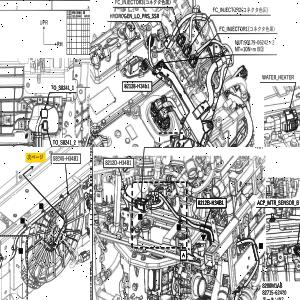PartNumber: (52, 155, 80, 162), (105, 159, 132, 166), (124, 82, 150, 89), (262, 289, 287, 296), (198, 200, 224, 206), (245, 39, 270, 44)
